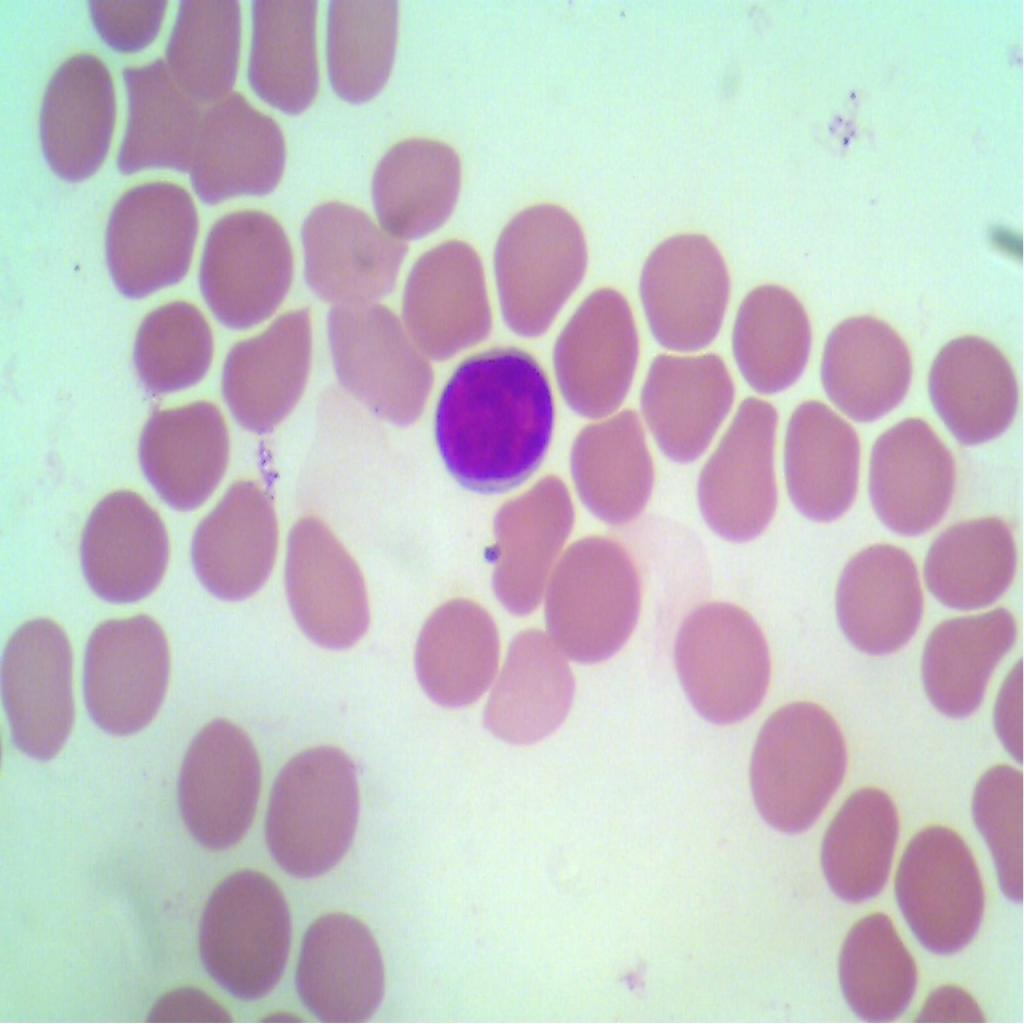Eritrosit: (318, 290, 434, 432), (272, 514, 382, 654), (264, 734, 366, 881), (742, 699, 854, 832), (118, 397, 240, 518), (694, 385, 784, 545), (818, 527, 926, 655), (169, 705, 263, 851), (719, 264, 821, 398), (178, 478, 280, 611), (198, 862, 293, 1004), (492, 198, 590, 334), (923, 322, 1023, 455), (673, 592, 775, 722), (216, 310, 321, 436), (78, 616, 181, 744), (479, 634, 593, 748), (95, 175, 204, 294), (296, 195, 410, 308), (399, 222, 491, 361), (78, 490, 176, 620), (778, 392, 869, 532), (199, 200, 294, 334), (486, 475, 578, 612), (403, 584, 503, 710), (111, 291, 223, 402), (864, 414, 958, 545), (184, 88, 289, 204), (34, 44, 118, 188), (546, 534, 639, 664), (292, 895, 386, 1023), (833, 892, 924, 1023), (4, 610, 78, 771), (553, 277, 638, 417), (915, 601, 1013, 722), (894, 829, 991, 951), (639, 343, 731, 464), (570, 407, 660, 525), (642, 228, 728, 351), (366, 132, 464, 239), (823, 308, 913, 424), (241, 0, 328, 117), (923, 518, 1021, 616), (114, 54, 198, 168), (815, 784, 899, 897), (321, 0, 399, 109), (162, 0, 235, 106)
Limfoblast: (434, 344, 556, 490)
Platelet: (481, 531, 503, 571)
